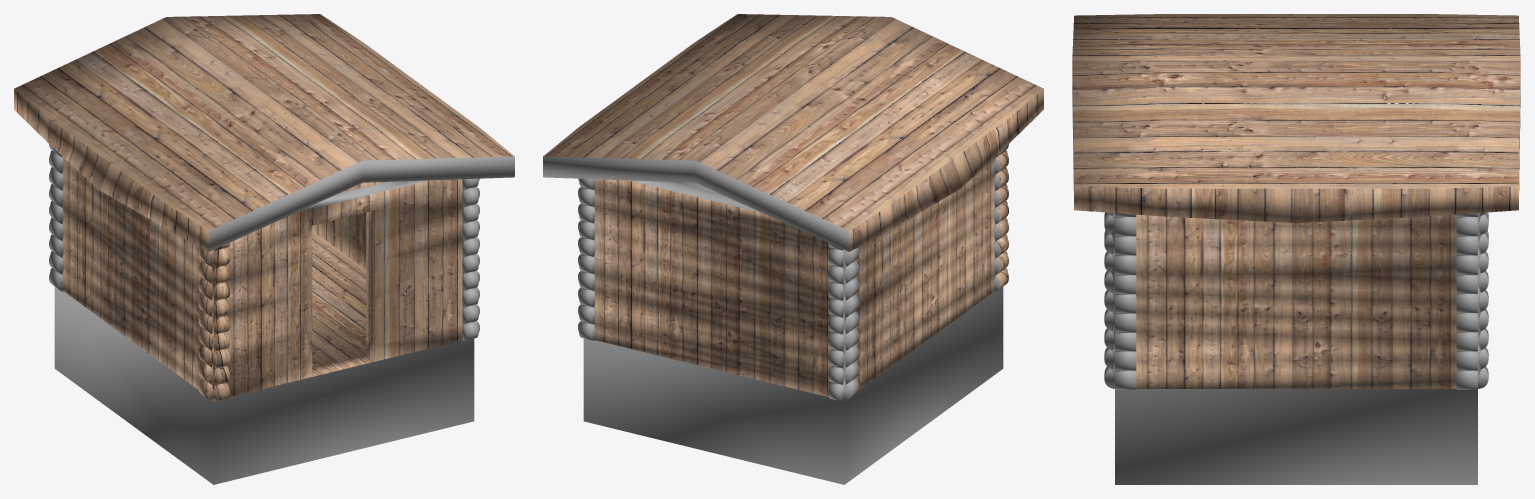
File: Cabin.fbx
3 renders of one model, left to right at view 1: azimuth 30°, elevation 25°; view 2: azimuth 150°, elevation 25°; view 3: azimuth 270°, elevation 25°, orthographic. The views are drawn at different scales.
Visible parts, largest first — view 1: Cabin; view 2: Cabin; view 3: Cabin.
Boxes of the visible parts, x1=… form: Cabin: x1=14, y1=14, x2=514, y2=484; Cabin: x1=543, y1=14, x2=1043, y2=484; Cabin: x1=1072, y1=14, x2=1520, y2=484.
Size of the model in its own units: 6.48 by 5.7 by 6.59.
